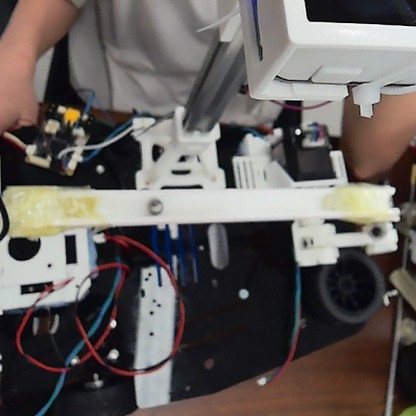ironball: (144, 196, 166, 216)
